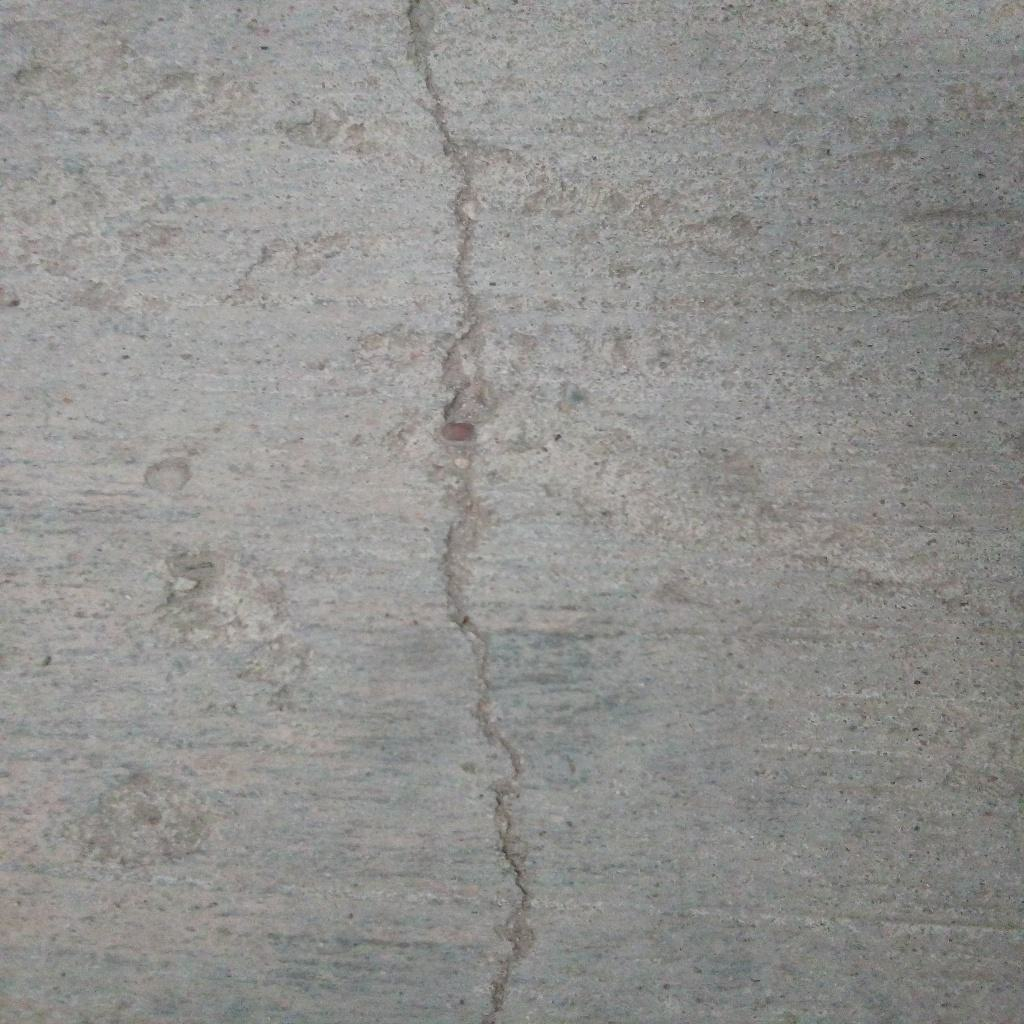Crack: (406, 1, 536, 1024)
